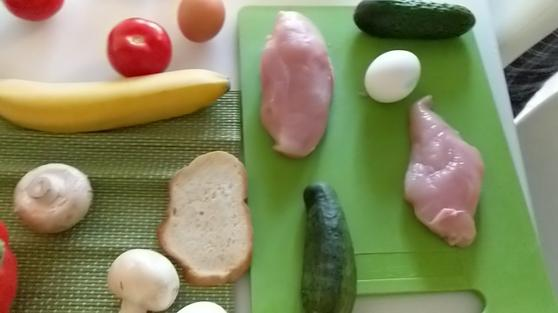banana: (1, 67, 232, 132)
champignon: (14, 161, 93, 234), (102, 247, 181, 313)
chicken_fillet: (400, 92, 485, 250), (259, 9, 332, 156)
cucumber: (297, 182, 359, 313), (352, 1, 479, 39)
egg: (360, 49, 424, 103), (176, 1, 226, 42)
tomato: (105, 15, 174, 74)
white_bread: (159, 150, 253, 284)
